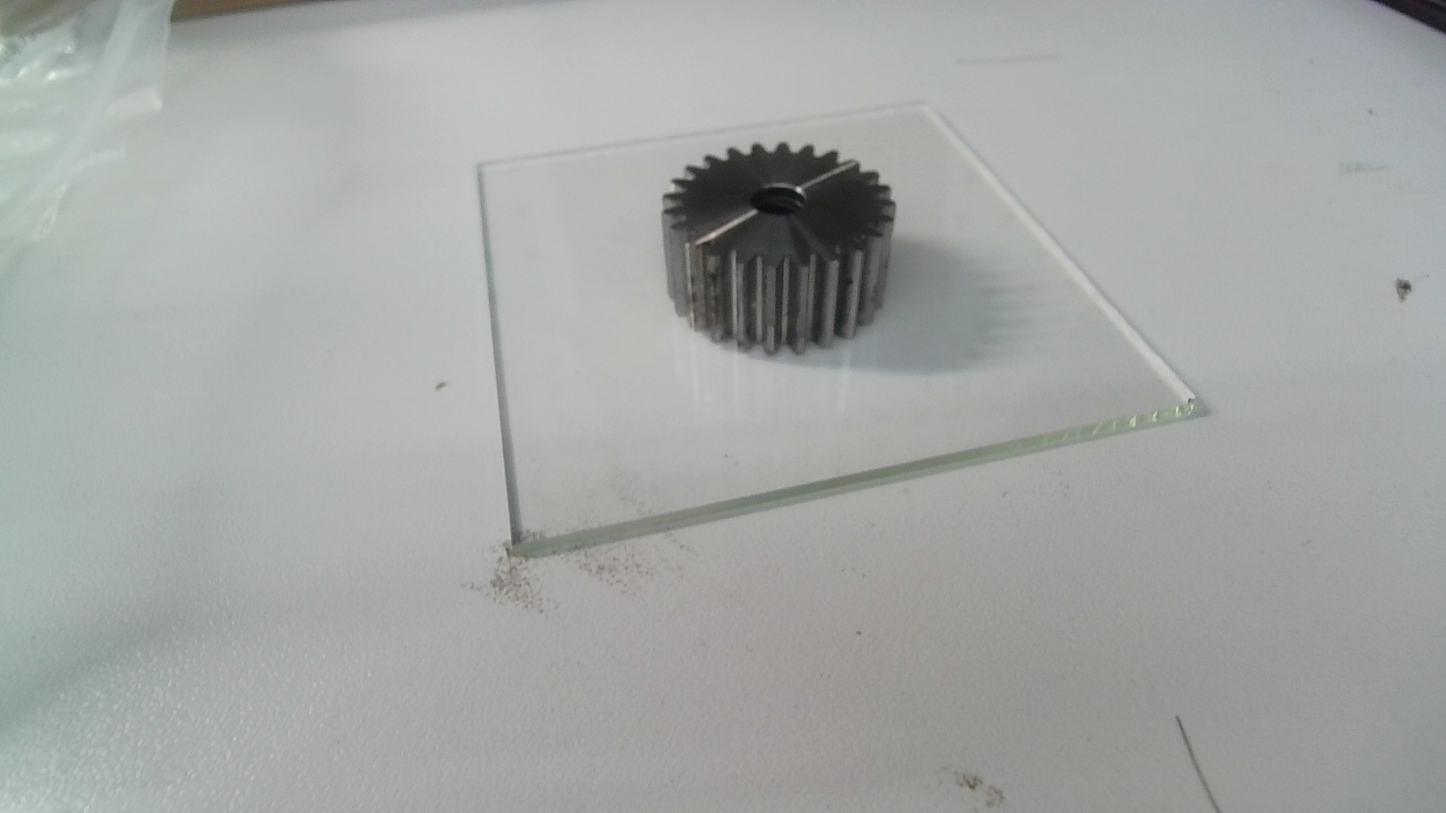gear: (657, 139, 900, 360)
